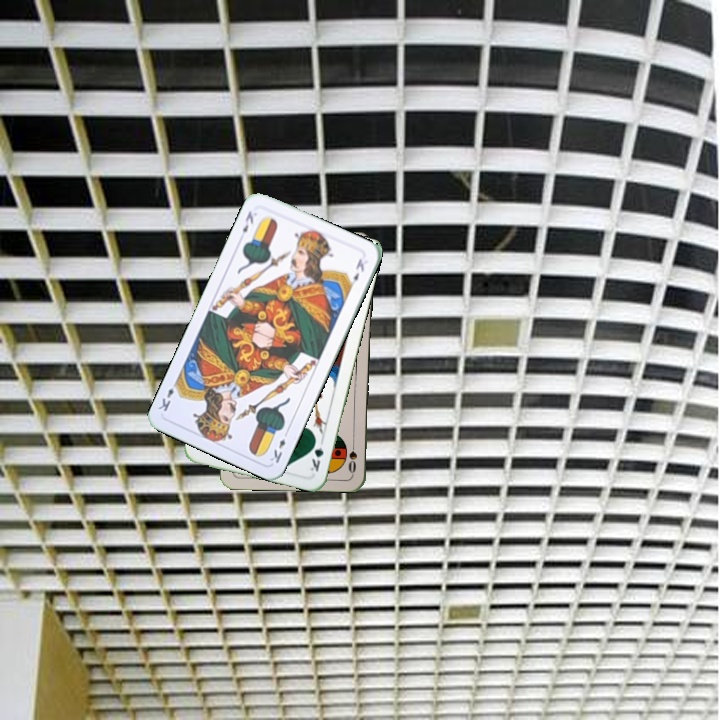EK: (266, 427, 291, 466), (235, 207, 256, 242)
GK: (306, 434, 326, 474)
SO: (344, 435, 360, 476)
